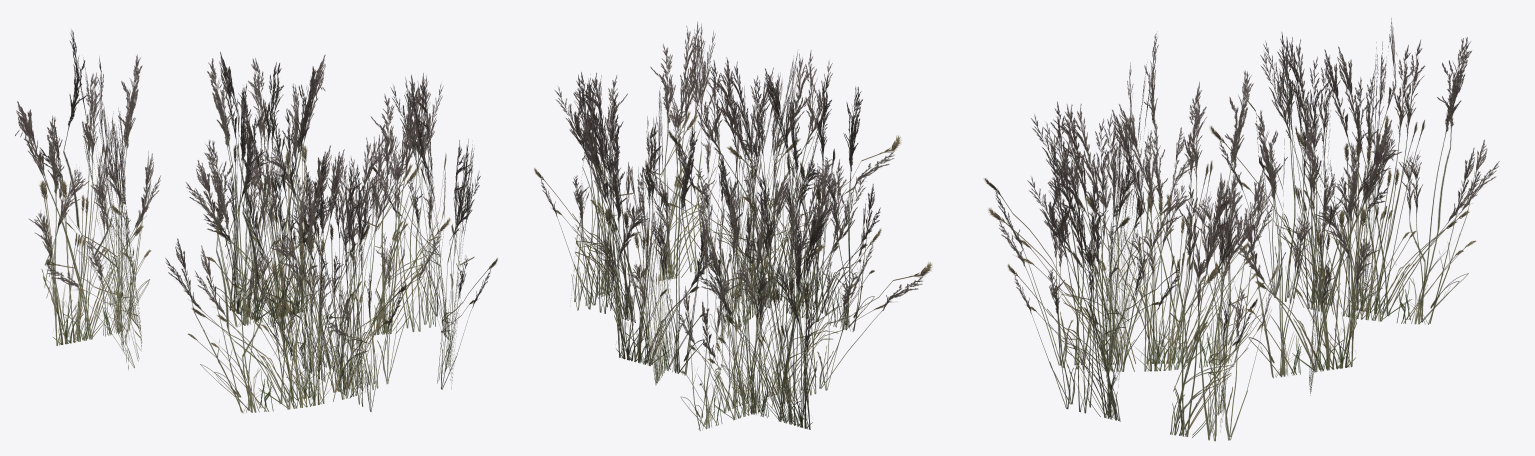
Rendered from grass_reeds01.glb.
3 views of the same model, side by side, from view 1: azimuth 30°, elevation 25°; view 2: azimuth 150°, elevation 25°; view 3: azimuth 270°, elevation 25° (orthographic). The views are drawn at different scales.
Visible parts, largest first — view 1: Grass_Reeds_LOD0; view 2: Grass_Reeds_LOD0; view 3: Grass_Reeds_LOD0.
Part boxes in pixels (x1,y1,x2,y2): Grass_Reeds_LOD0: (15, 29, 497, 413); Grass_Reeds_LOD0: (534, 21, 932, 431); Grass_Reeds_LOD0: (983, 18, 1499, 441).
Size of the model in its own units: 3.43 by 2.09 by 3.72.
1 material, 1 textured.
